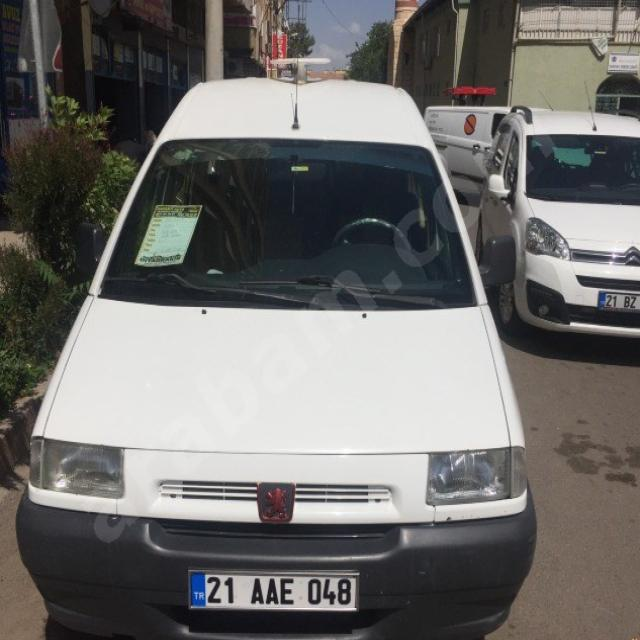license_plate: (189, 571, 356, 611)
